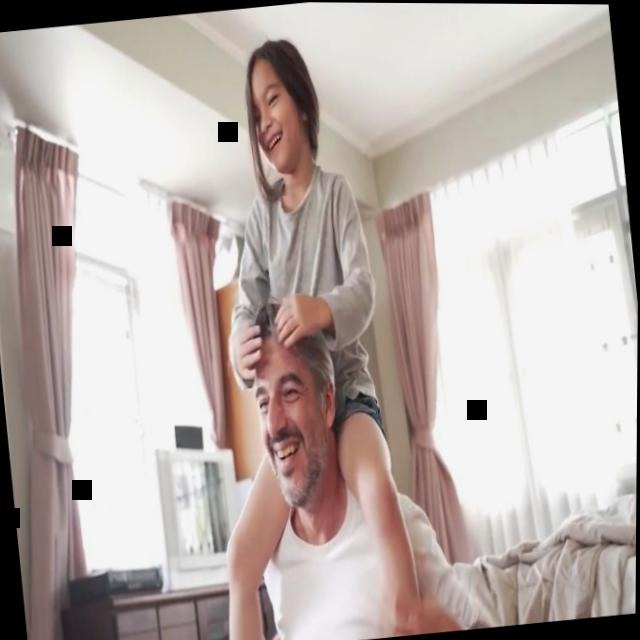NO-Mask: (251, 341, 334, 511), (247, 56, 308, 174)
